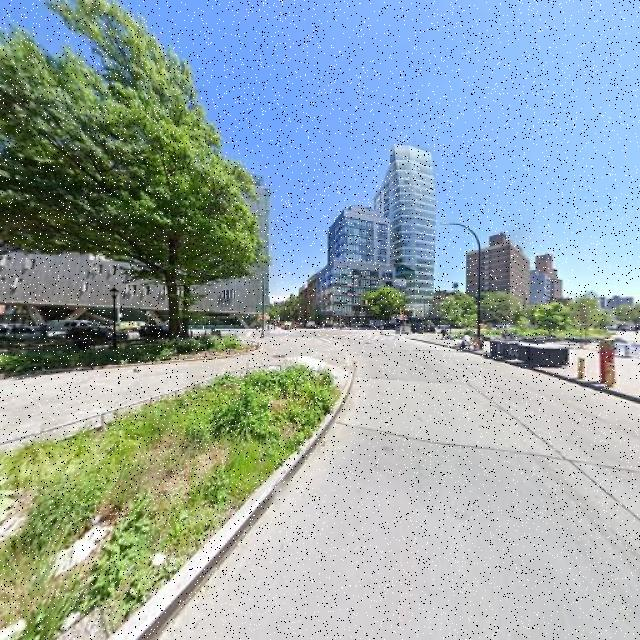Building: (1, 158, 267, 328), (312, 205, 394, 327), (397, 143, 423, 325)
